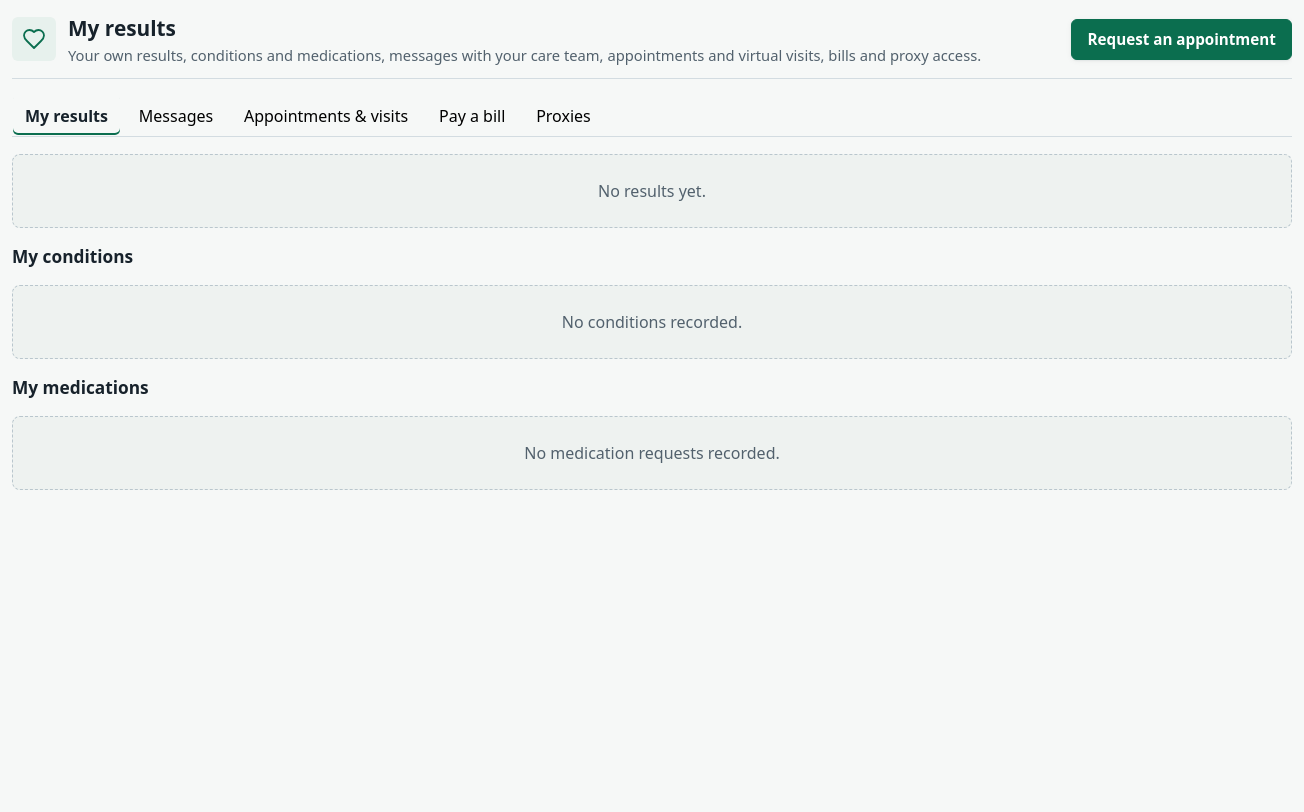
PortalPage access services (BD-22 / BD-23) › bill pay: balance → payment → receipt, with test-mode labels and the verbatim disclaimer
Click the tab "Pay a bill" at (472, 116), box top-left (426, 95), bottom-right (518, 136)
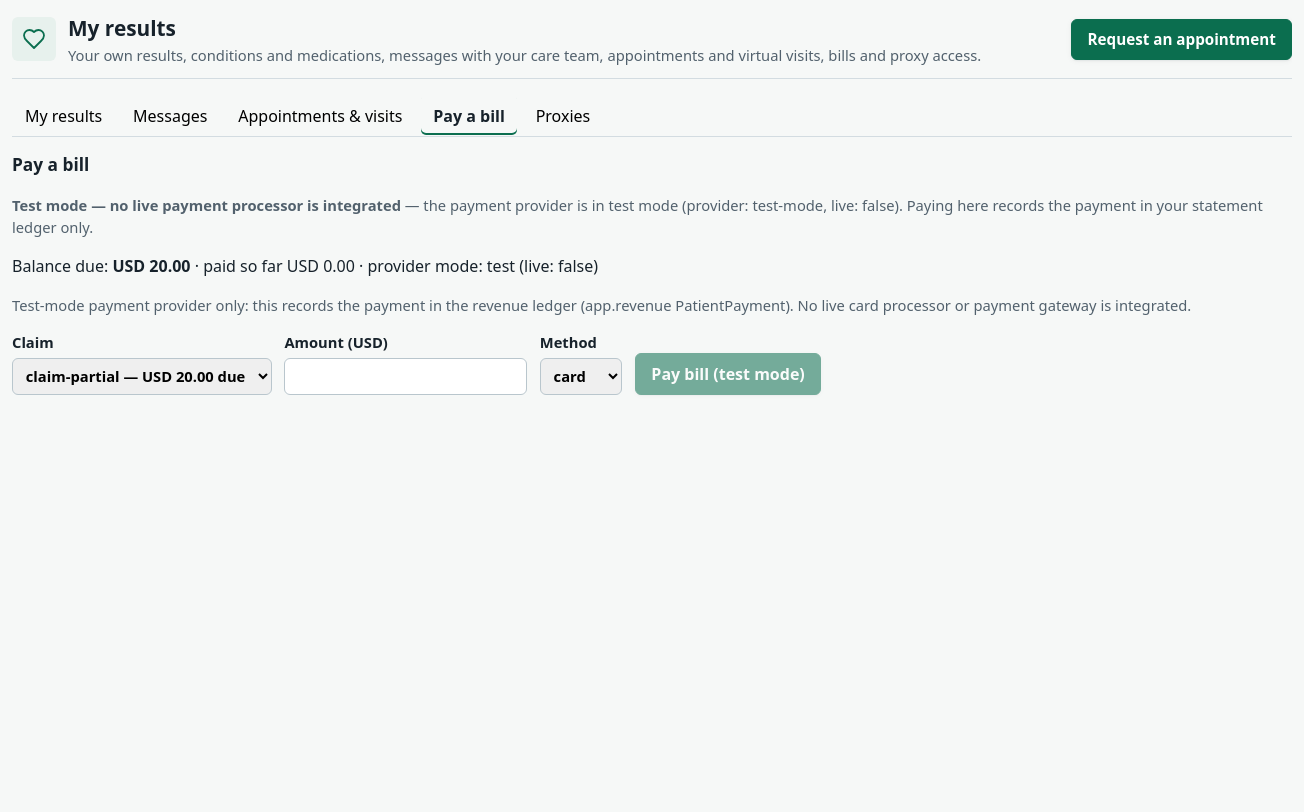
Expected: the heading "Pay a bill" is shown, top-left (12, 153), bottom-right (89, 176)
Expected: the text "USD 20.00" is shown, top-left (112, 255), bottom-right (190, 277)
Expected: the text "provider mode: test (live: false)" is shown, top-left (355, 255), bottom-right (598, 277)
Type "20" into the number field named "Payment amount" at (406, 376), box top-left (284, 358), bottom-right (527, 395)
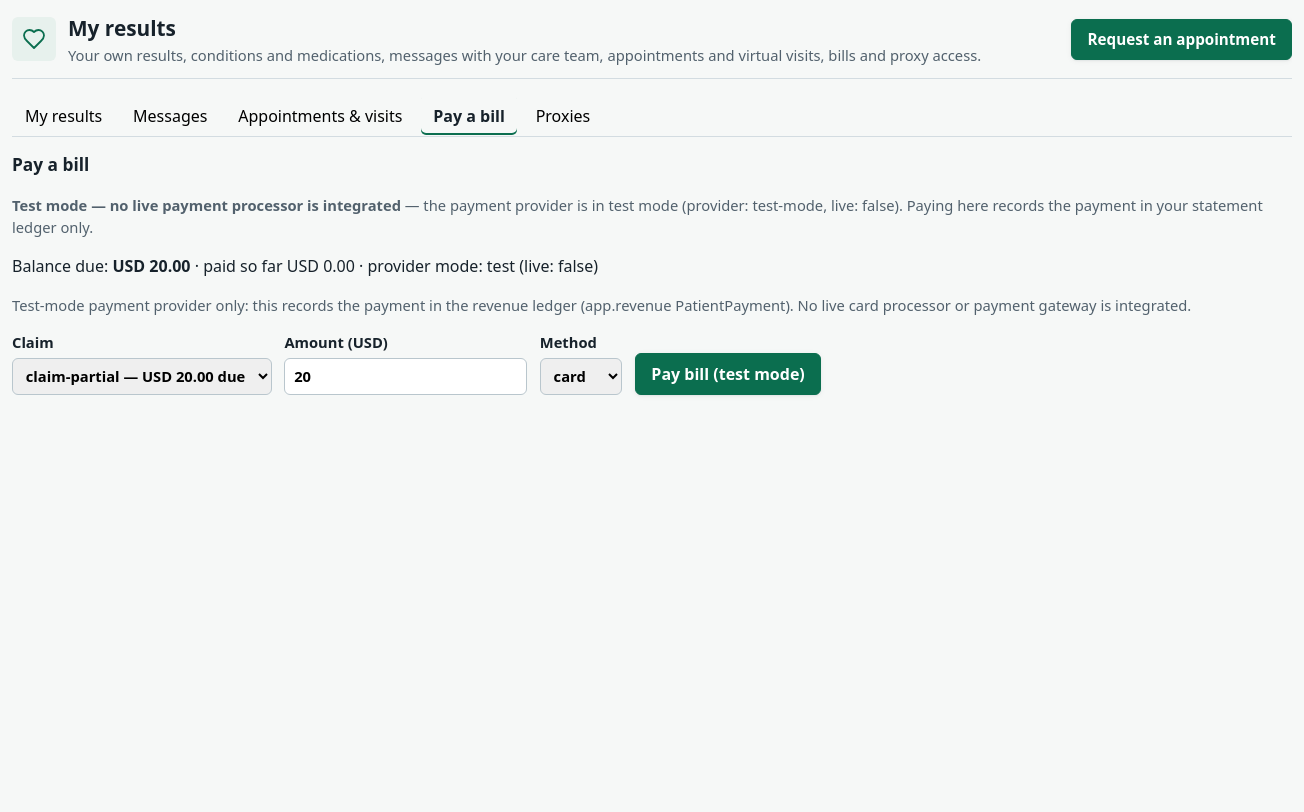
Click the button "Pay bill (test mode)" at (728, 374), box top-left (635, 353), bottom-right (821, 395)
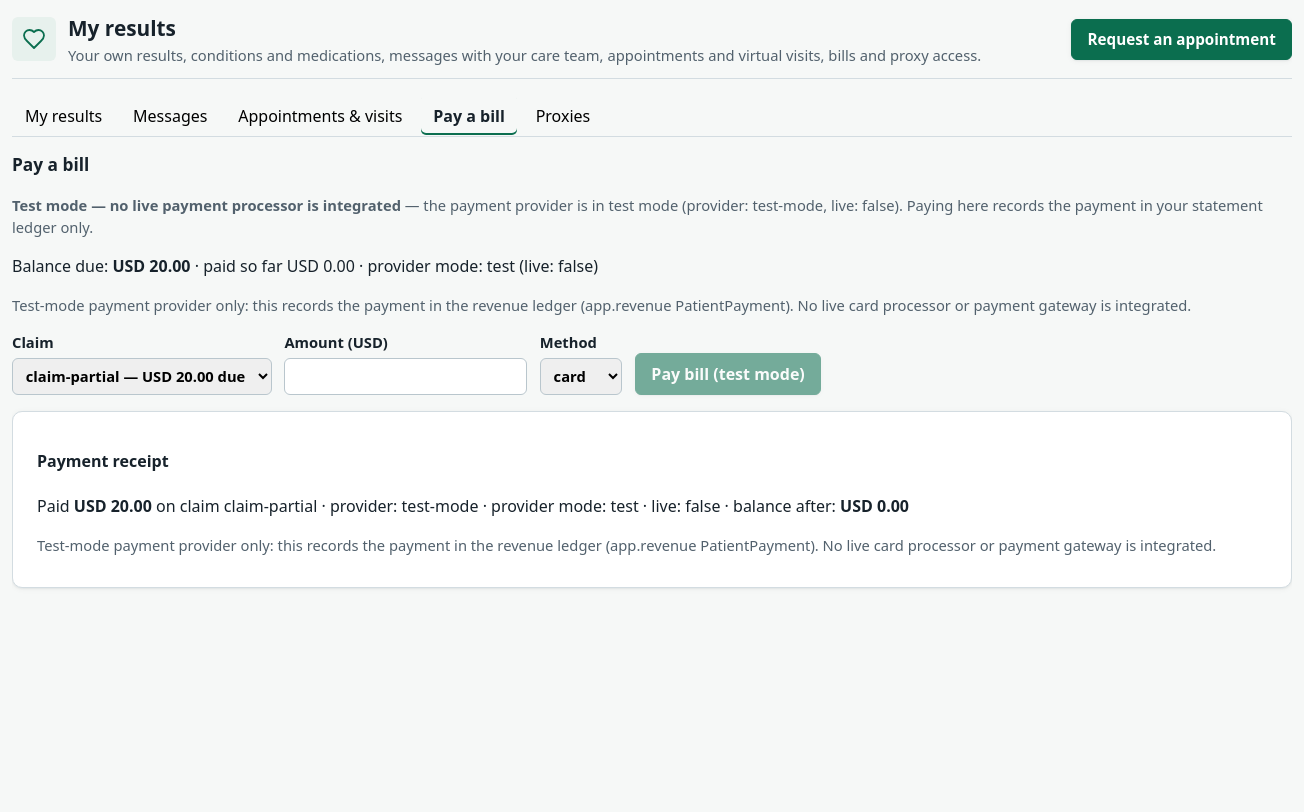
Expected: the text "live: false" is shown, top-left (12, 195), bottom-right (1263, 237)
Expected: the heading "Payment receipt" is shown, top-left (37, 450), bottom-right (169, 472)
